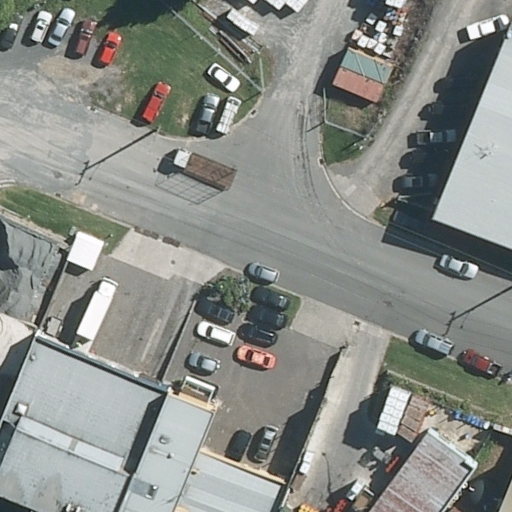DT: (146, 126, 163, 144)
